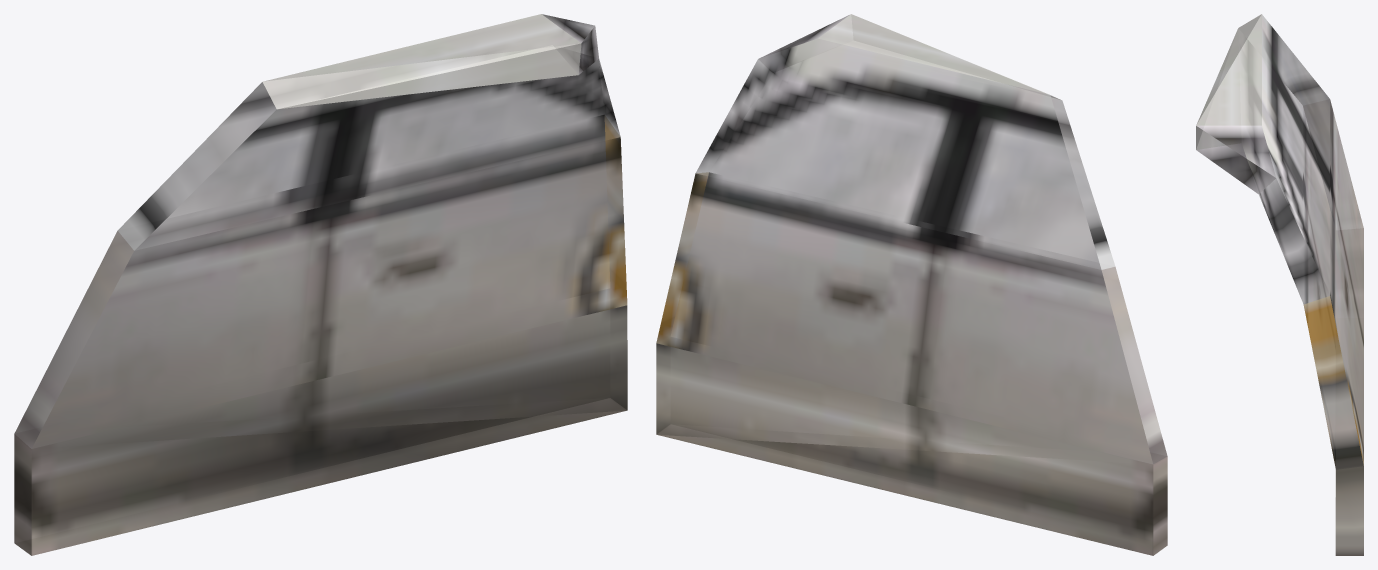
The model's file is Shared - Ground Vehicles - Police Car - CVPoliceCar_x09.glb.
The picture shows the model from 3 angles, left to right: view 1: azimuth 30°, elevation 25°; view 2: azimuth 150°, elevation 25°; view 3: azimuth 270°, elevation 25°; orthographic projection. The views are drawn at different scales.
Parts seen in each view (by area): view 1: CVPOLICECAR_X09; view 2: CVPOLICECAR_X09; view 3: CVPOLICECAR_X09.
Boxes of the visible parts, left/top/right/bottom form: CVPOLICECAR_X09: left=14, top=14, right=627, bottom=555; CVPOLICECAR_X09: left=656, top=14, right=1167, bottom=555; CVPOLICECAR_X09: left=1196, top=14, right=1363, bottom=555.
Bounding box in the file's own units: 7.52 × 5.57 × 2.24.
1 material, 1 textured.
